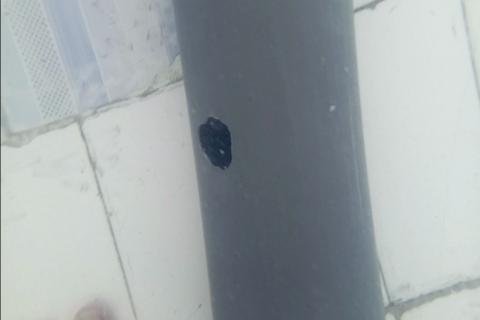kebocoran: (195, 112, 234, 171)
